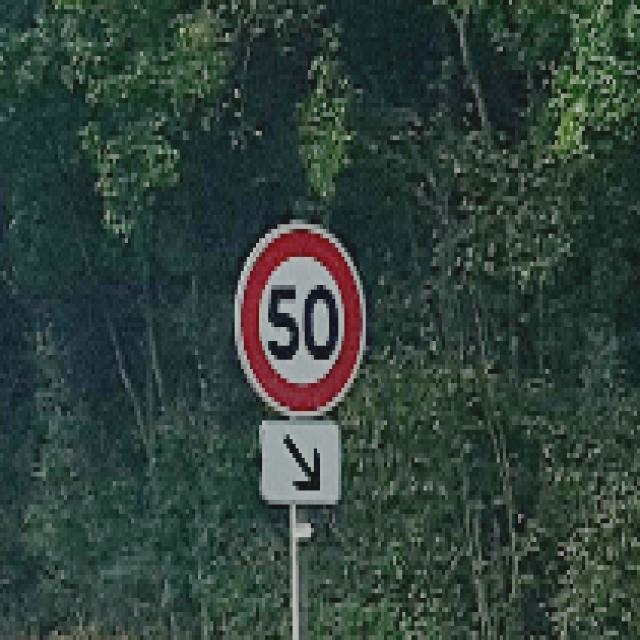speed_50: (229, 216, 368, 418)
